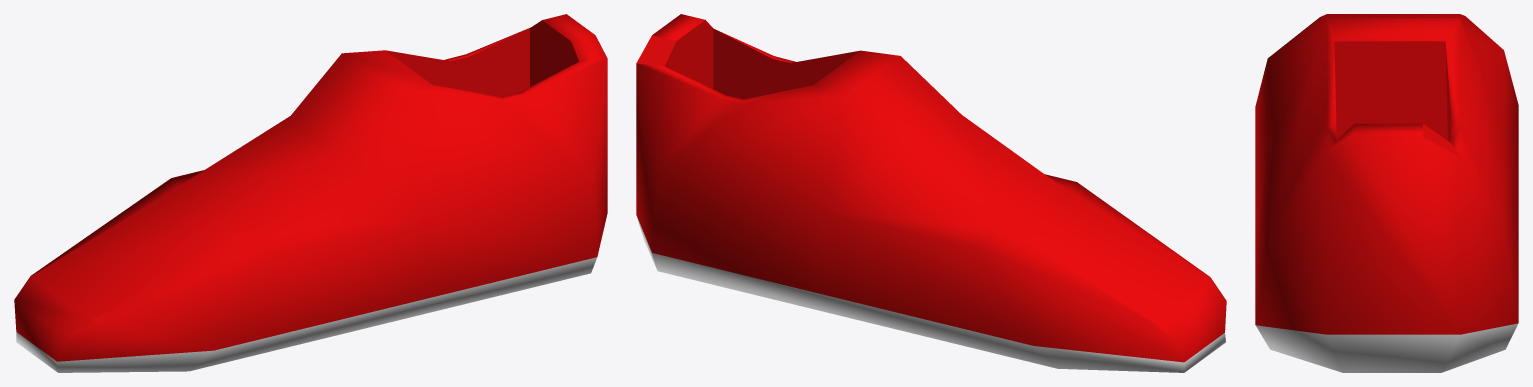
File: Shoe2.fbx
The picture shows the model from 3 angles, left to right: view 1: azimuth 30°, elevation 25°; view 2: azimuth 150°, elevation 25°; view 3: azimuth 270°, elevation 25°; orthographic projection. The views are drawn at different scales.
Visible parts, largest first — view 1: Cube.032; view 2: Cube.032; view 3: Cube.032.
Part boxes in pixels (<box>): Cube.032: <box>14,14,607,372</box>; Cube.032: <box>636,14,1226,372</box>; Cube.032: <box>1255,14,1518,372</box>.
Size of the model in its own units: 285 by 103 by 101.
